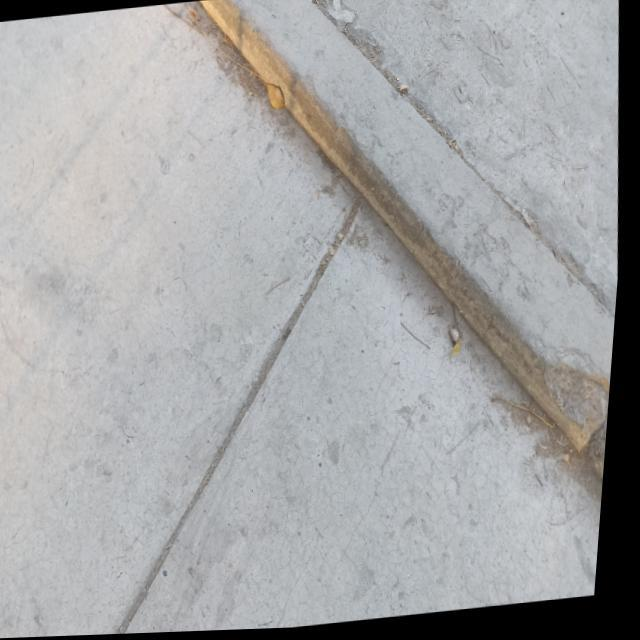bump: (292, 26, 590, 402)
